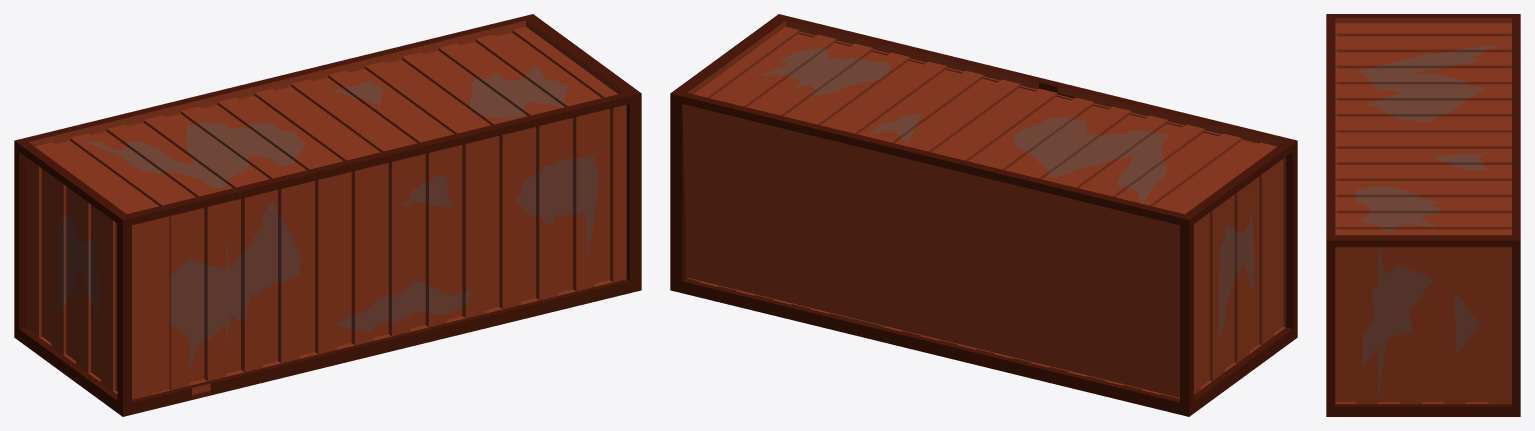
The model's file is ContainerVeryRusty.fbx.
The picture shows the model from 3 angles, left to right: view 1: azimuth 30°, elevation 25°; view 2: azimuth 150°, elevation 25°; view 3: azimuth 270°, elevation 25°; orthographic projection. The views are drawn at different scales.
Visible parts, largest first — view 1: Cube; view 2: Cube; view 3: Cube.
Boxes of the visible parts, x1,y1,x2,y2 form: Cube: (14,14,641,416); Cube: (670,14,1297,416); Cube: (1326,14,1520,416).
Bounding box in the file's own units: 552 × 200 × 200.
